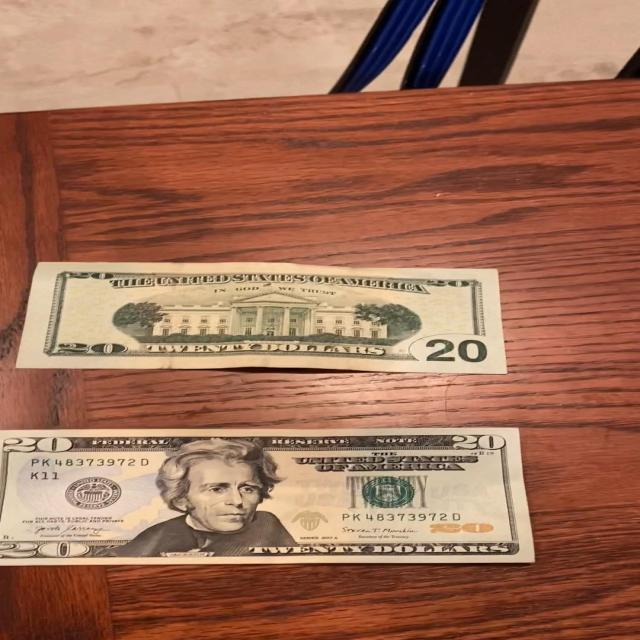20-Back: (11, 259, 510, 376)
20-Front: (0, 423, 537, 564)
